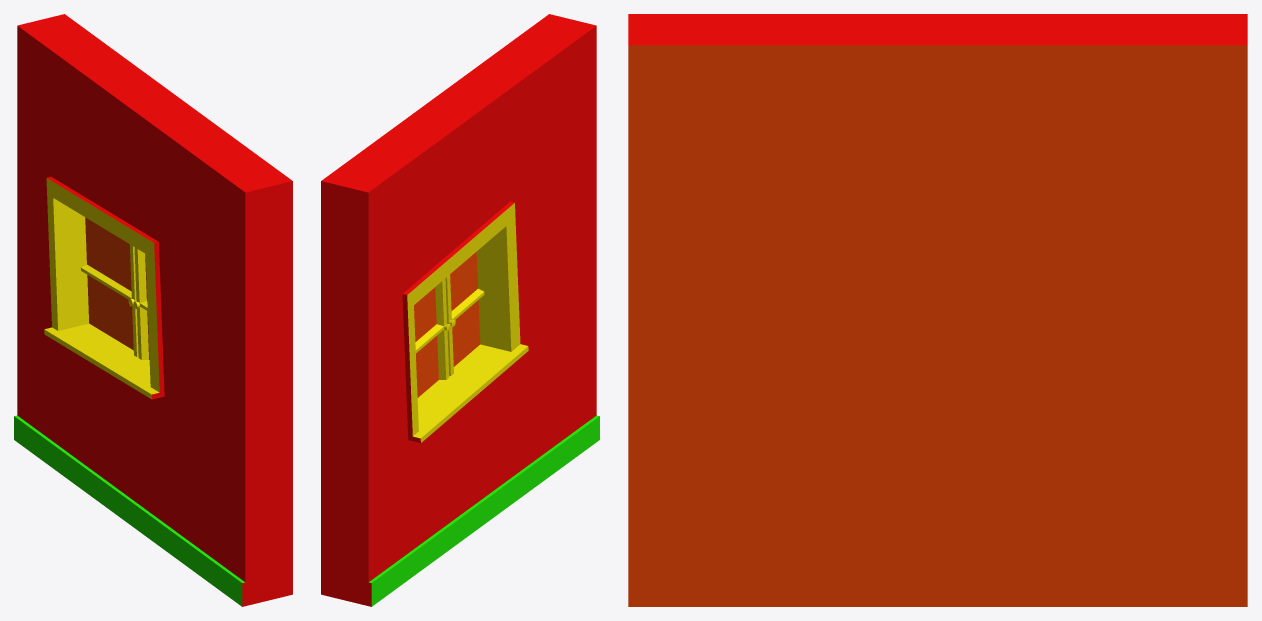
The model's file is WallWindow002.FBX.
3 views of the same model, side by side, from view 1: azimuth 30°, elevation 25°; view 2: azimuth 150°, elevation 25°; view 3: azimuth 270°, elevation 25° (orthographic). The views are drawn at different scales.
Parts seen in each view (by area): view 1: WallWindow003; view 2: WallWindow003; view 3: WallWindow003.
Part boxes in pixels (x1,y1,x2,y2): WallWindow003: (14,14,292,606); WallWindow003: (321,14,599,606); WallWindow003: (628,14,1247,606).
Bounding box in the file's own units: 38 × 250 × 250.
